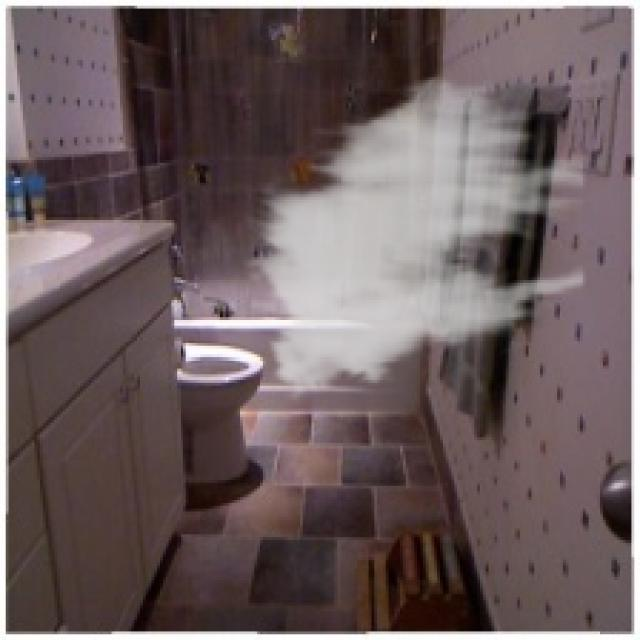smoke: (243, 66, 586, 408)
